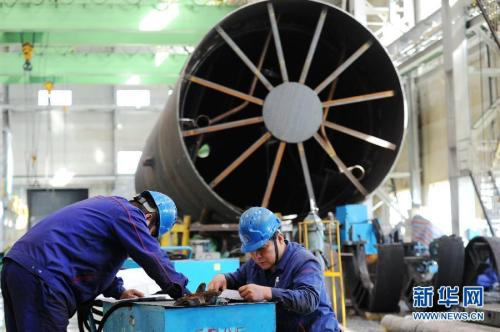gloves: (165, 282, 183, 299)
hard-hat: (238, 206, 281, 253), (135, 190, 177, 238)
person: (0, 189, 193, 331), (207, 206, 341, 331)
ppe-suit: (0, 191, 190, 331), (222, 240, 340, 331)
